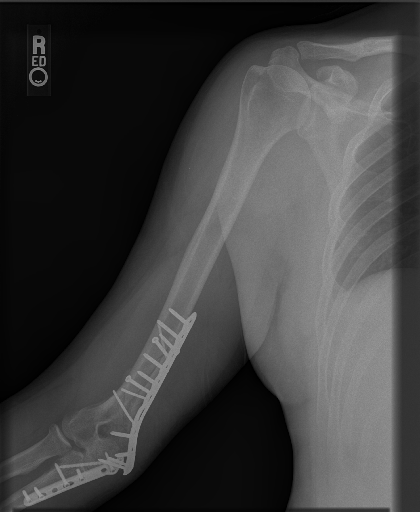implant: (118, 302, 200, 476), (20, 450, 120, 504)
